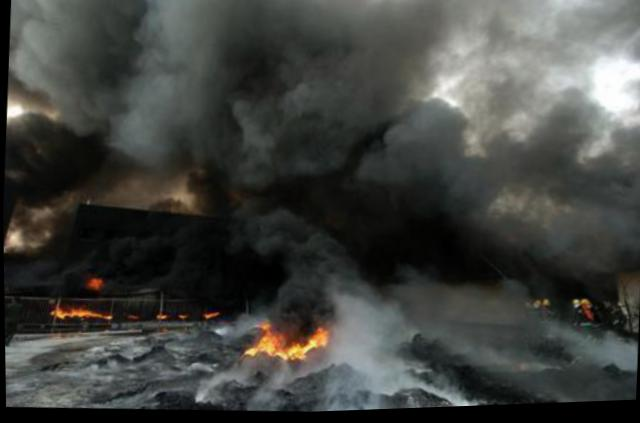fire: (259, 331, 286, 360), (56, 306, 114, 318), (286, 340, 309, 359), (311, 328, 329, 348), (87, 273, 105, 292), (245, 347, 260, 360)
